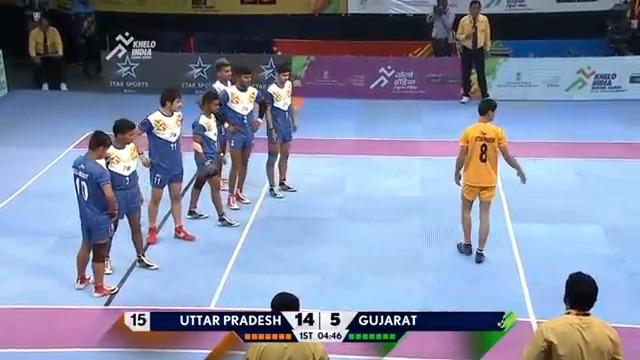Player: (133, 87, 196, 244), (521, 270, 623, 359), (102, 117, 158, 274), (71, 129, 119, 297), (185, 90, 240, 226), (217, 64, 265, 208), (244, 291, 330, 359), (263, 63, 298, 198), (209, 58, 235, 191)
Raider: (453, 99, 527, 265)
referee: (455, 0, 491, 103), (27, 14, 68, 90), (425, 0, 456, 57), (77, 11, 102, 78)
